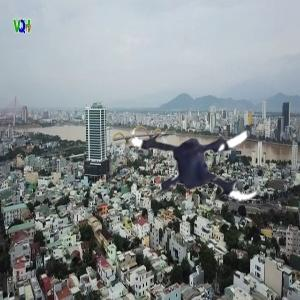drone: (131, 85, 274, 228)
